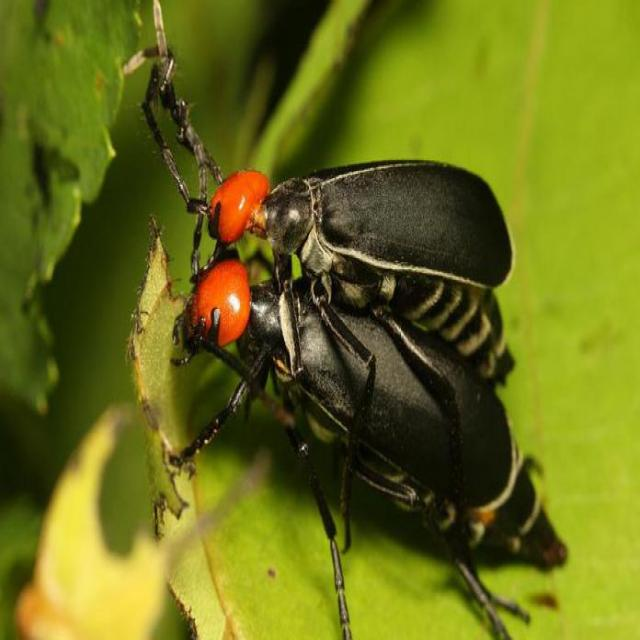BlisterBeetle-Adult-: (160, 255, 580, 598), (198, 151, 531, 331)
